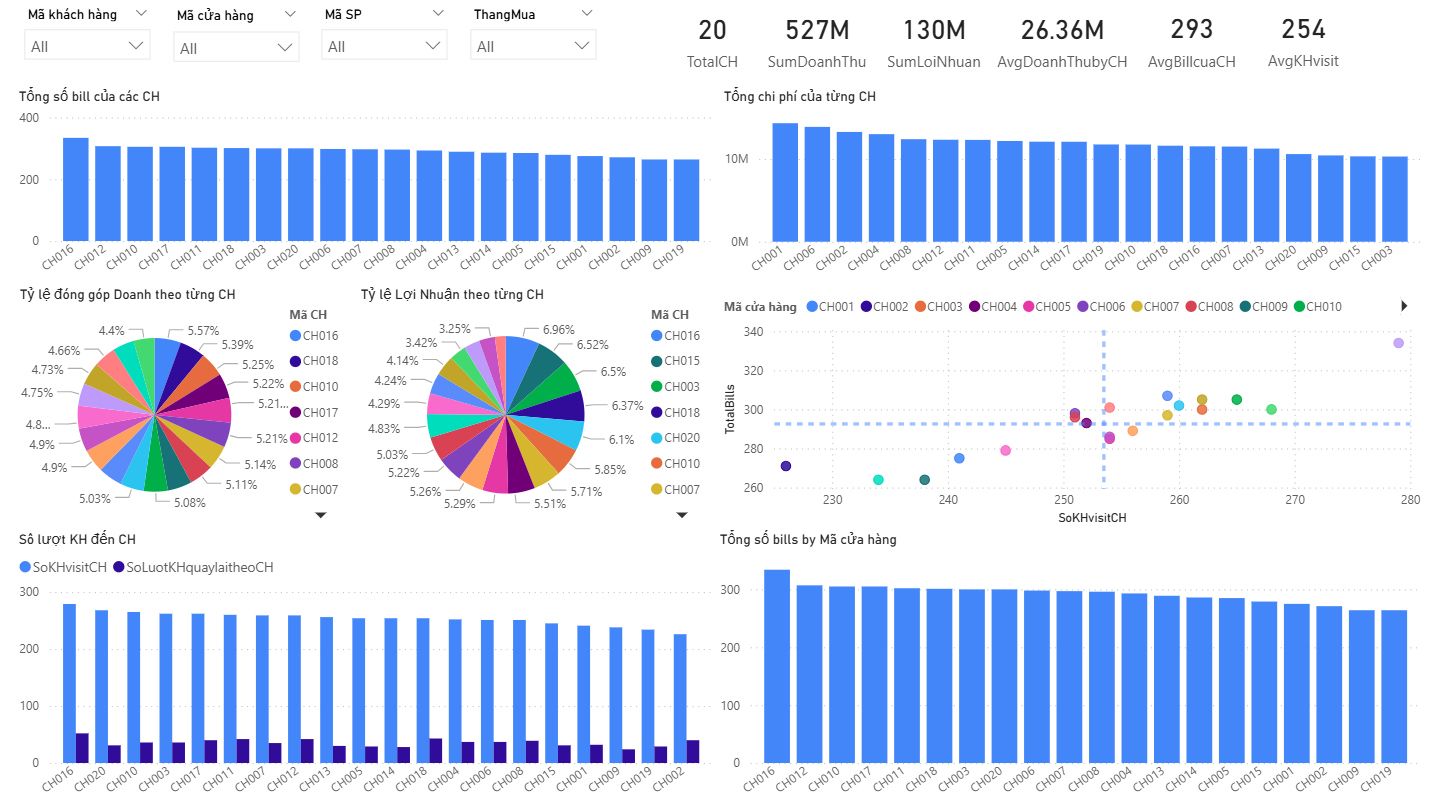

What the dashboard file says about the page in this screenshot:
{"tool":"powerbi","page":{"name":"CH","canvas":[1280,720],"ordinal":2},"visuals":[{"type":"pieChart","title":"Tỷ lệ đóng góp Doanh theo từng CH","fields":{"Category":["CH.Mã CH"],"Y":["BanHang.SumDoanhThu"]},"box":[15.5,257.5,303.1,217.3],"z":0},{"type":"clusteredColumnChart","title":"Tổng số bill của các CH","fields":{"Category":["CH.Mã CH"],"Y":["BanHang.TotalBills"]},"box":[15.1,81.6,625.1,175.6],"z":1000},{"type":"columnChart","title":"Tổng chi phí của từng CH","fields":{"Category":["ChiPhi.Mã cửa hàng"],"Y":["ChiPhi.SumChiPhi"]},"box":[640,81.3,628.1,176.2],"z":2000},{"type":"clusteredColumnChart","title":"Sô lượt KH đến CH","fields":{"Category":["BanHang.Mã cửa hàng"],"Y":["BanHang.SoKHvisitCH","BanHang.SoLuotKHquaylaitheoCH"]},"box":[15.1,474.4,625.1,245.6],"z":4000},{"type":"card","fields":{"Values":["BanHang.AvgDoanhThubyCH"]},"box":[881.4,4.4,128.6,67.4],"z":5000},{"type":"card","fields":{"Values":["BanHang.SumDoanhThu"]},"box":[673.9,4.4,108.2,67.4],"z":6000},{"type":"card","fields":{"Values":["BanHang.TotalCH"]},"box":[596.7,4.4,77.1,67.4],"z":7000},{"type":"card","fields":{"Values":["BanHang.SumLoiNhuan"]},"box":[782.1,4.4,99.3,67.4],"z":8000},{"type":"slicer","fields":{"Values":["KH.Mã khách hàng"]},"box":[15.1,5.3,131.8,67.4],"z":9000},{"type":"slicer","fields":{"Values":["ChiPhi.Mã cửa hàng"]},"box":[146.9,5.3,131.8,67.4],"z":10000},{"type":"slicer","fields":{"Values":["SP.Mã SP"]},"box":[278.6,5.3,131.8,67.4],"z":11000},{"type":"slicer","fields":{"Values":["BanHang.ThangMua"]},"box":[410.1,5.3,131.7,67.4],"z":12000},{"type":"card","fields":{"Values":["BanHang.AvgKHvisit"]},"box":[1111,4.4,96.7,65.6],"z":12001},{"type":"card","fields":{"Values":["BanHang.AvgBillcuaCH"]},"box":[1010,4.4,101.1,66.5],"z":12002},{"type":"scatterChart","fields":{"X":["BanHang.SoluotKHvisitCH"],"Y":["BanHang.TotalBills"],"Series":["BanHang.Mã cửa hàng"]},"box":[640.2,257.1,627.8,217.2],"z":12003},{"type":"pieChart","title":"Tỷ lệ Lợi Nhuận theo từng CH","fields":{"Category":["CH.Mã CH"],"Y":["BanHang.SumLoiNhuan"]},"box":[318.6,257.5,321.4,217.3],"z":12004},{"type":"lineStackedColumnComboChart","fields":{"Category":["BanHang.Mã cửa hàng"],"Y":["BanHang.TotalBills"]},"box":[636.7,474.4,631.3,245.6],"z":12006}]}

Visuals, with their boxes in screenshot pixels (x1, y1, x2, y2), scaled from the page's 1280x720 canvas onto the 1433x806 screenshot:
"Tỷ lệ đóng góp Doanh theo từng CH" pieChart: Rect(17, 288, 357, 532)
"Tổng số bill của các CH" clusteredColumnChart: Rect(17, 91, 717, 288)
"Tổng chi phí của từng CH" columnChart: Rect(716, 91, 1420, 288)
"Sô lượt KH đến CH" clusteredColumnChart: Rect(17, 531, 717, 805)
card - BanHang.AvgDoanhThubyCH: Rect(987, 5, 1131, 80)
card - BanHang.SumDoanhThu: Rect(754, 5, 876, 80)
card - BanHang.TotalCH: Rect(668, 5, 754, 80)
card - BanHang.SumLoiNhuan: Rect(876, 5, 987, 80)
slicer - KH.Mã khách hàng: Rect(17, 6, 164, 81)
slicer - ChiPhi.Mã cửa hàng: Rect(164, 6, 312, 81)
slicer - SP.Mã SP: Rect(312, 6, 459, 81)
slicer - BanHang.ThangMua: Rect(459, 6, 607, 81)
card - BanHang.AvgKHvisit: Rect(1244, 5, 1352, 78)
card - BanHang.AvgBillcuaCH: Rect(1131, 5, 1244, 79)
scatterChart - BanHang.SoluotKHvisitCH x BanHang.TotalBills: Rect(717, 288, 1420, 531)
"Tỷ lệ Lợi Nhuận theo từng CH" pieChart: Rect(357, 288, 716, 532)
lineStackedColumnComboChart - BanHang.Mã cửa hàng x BanHang.TotalBills: Rect(713, 531, 1420, 805)
